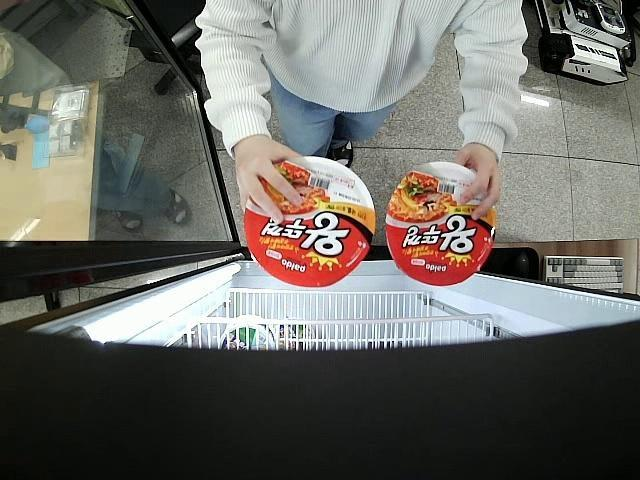10_wangTtukkeong: (246, 156, 375, 288), (387, 160, 496, 287)
